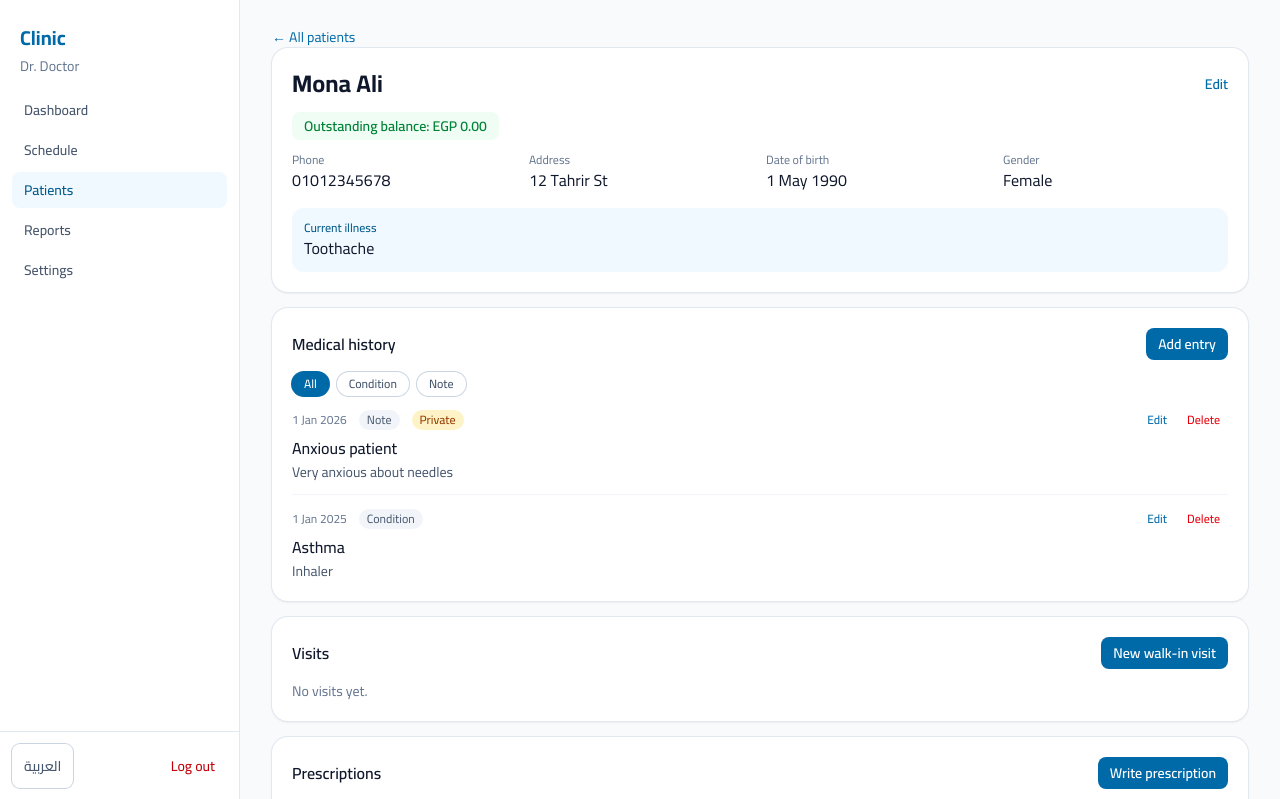
Test: PatientDetails › edits an entry and makes it visible
Click the button with aria-label "Edit Anxious patient": (1157, 420) left=1139, top=408, right=1175, bottom=432
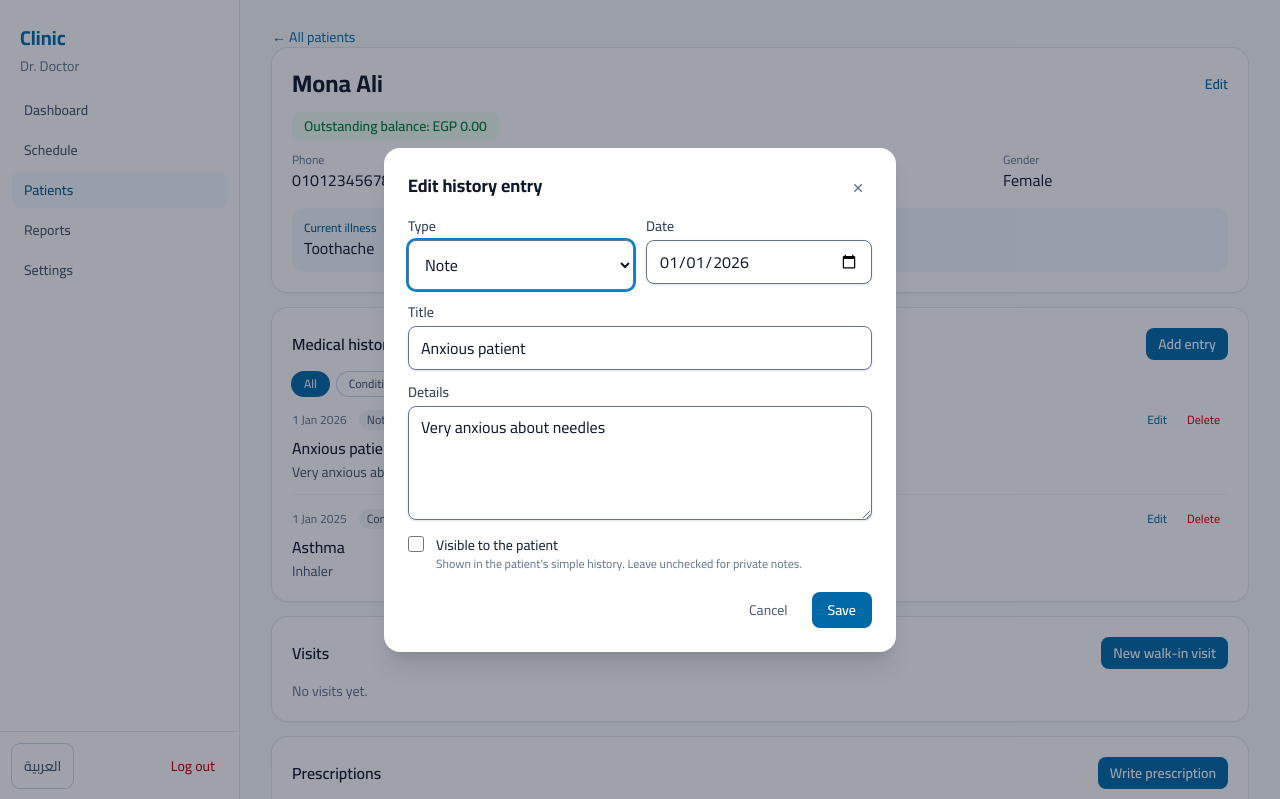
Result: the field labelled "Title" holds "Anxious patient" at left=408, top=326, right=872, bottom=370
Click the checkbox labelled "Visible to the patient": (416, 544) left=408, top=536, right=424, bottom=552
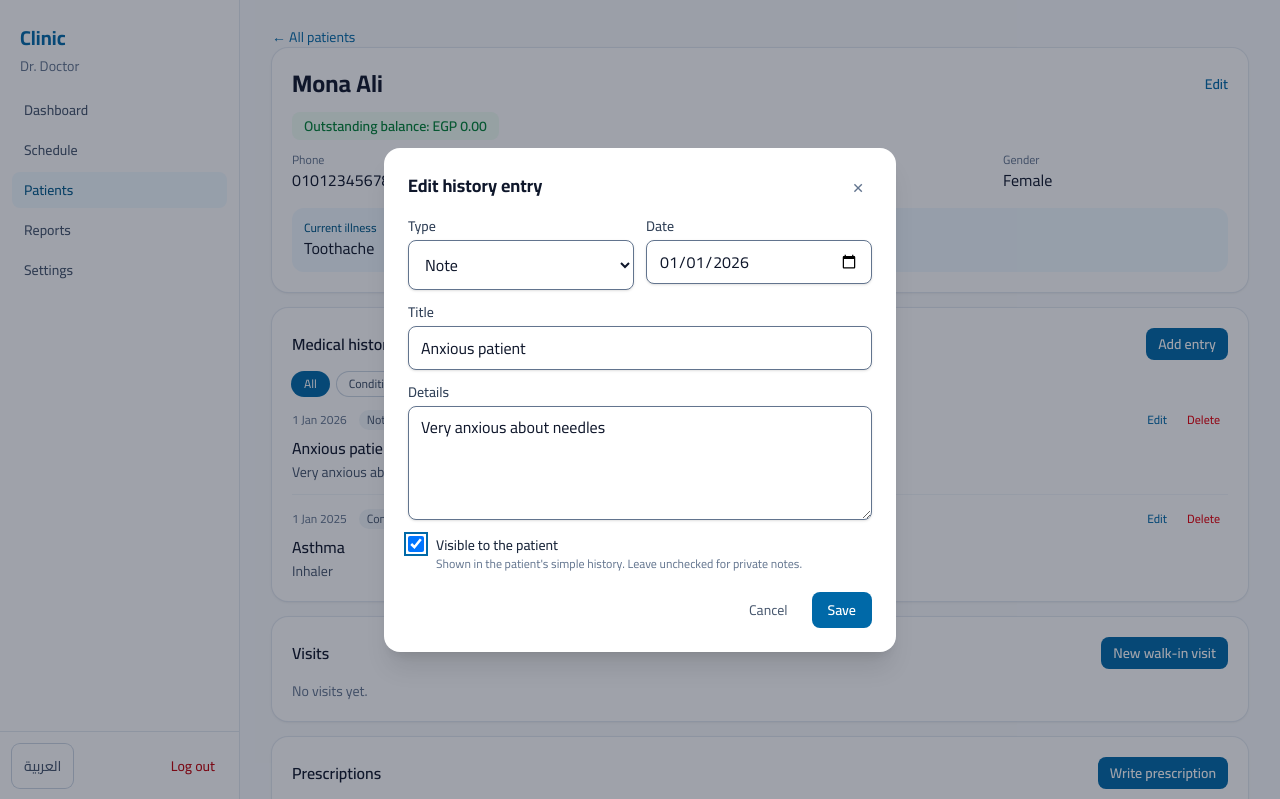
Click the button "Save": (842, 610) left=812, top=592, right=872, bottom=628
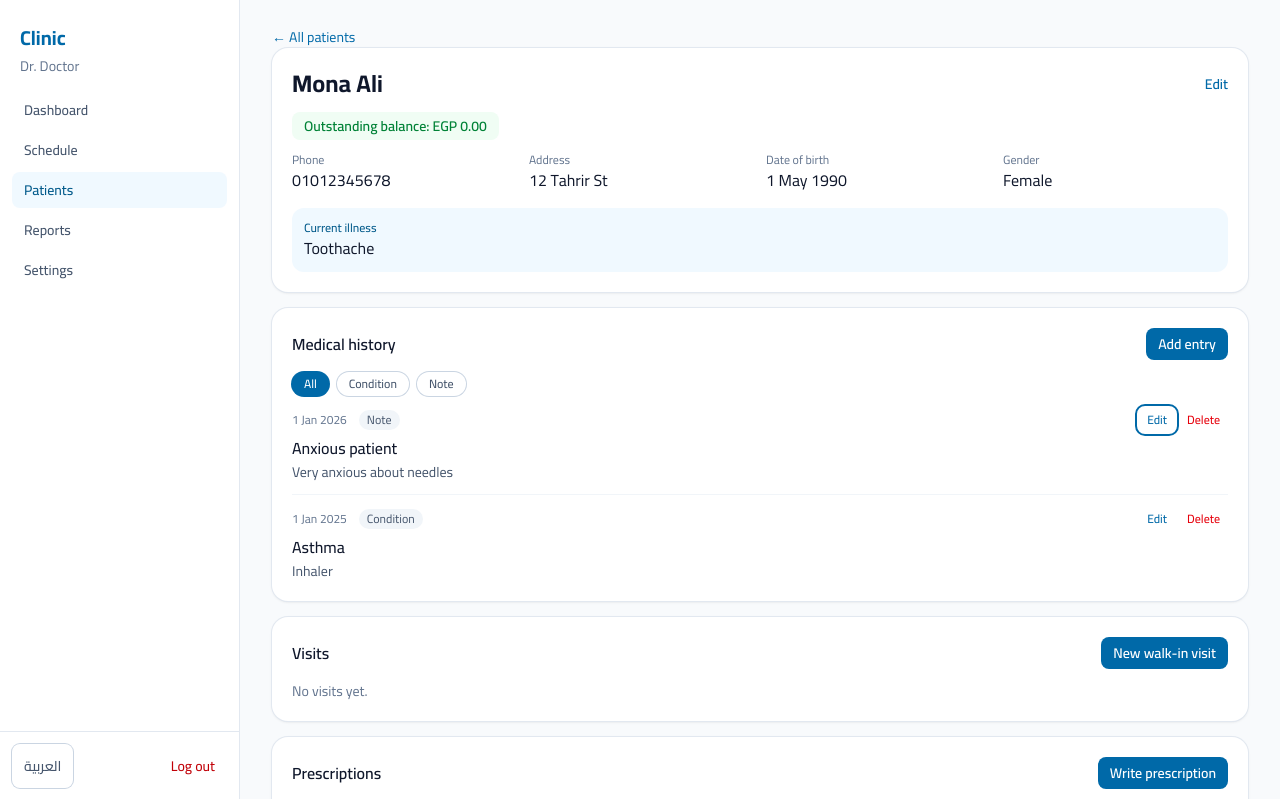
Result: the text "Private" is gone
